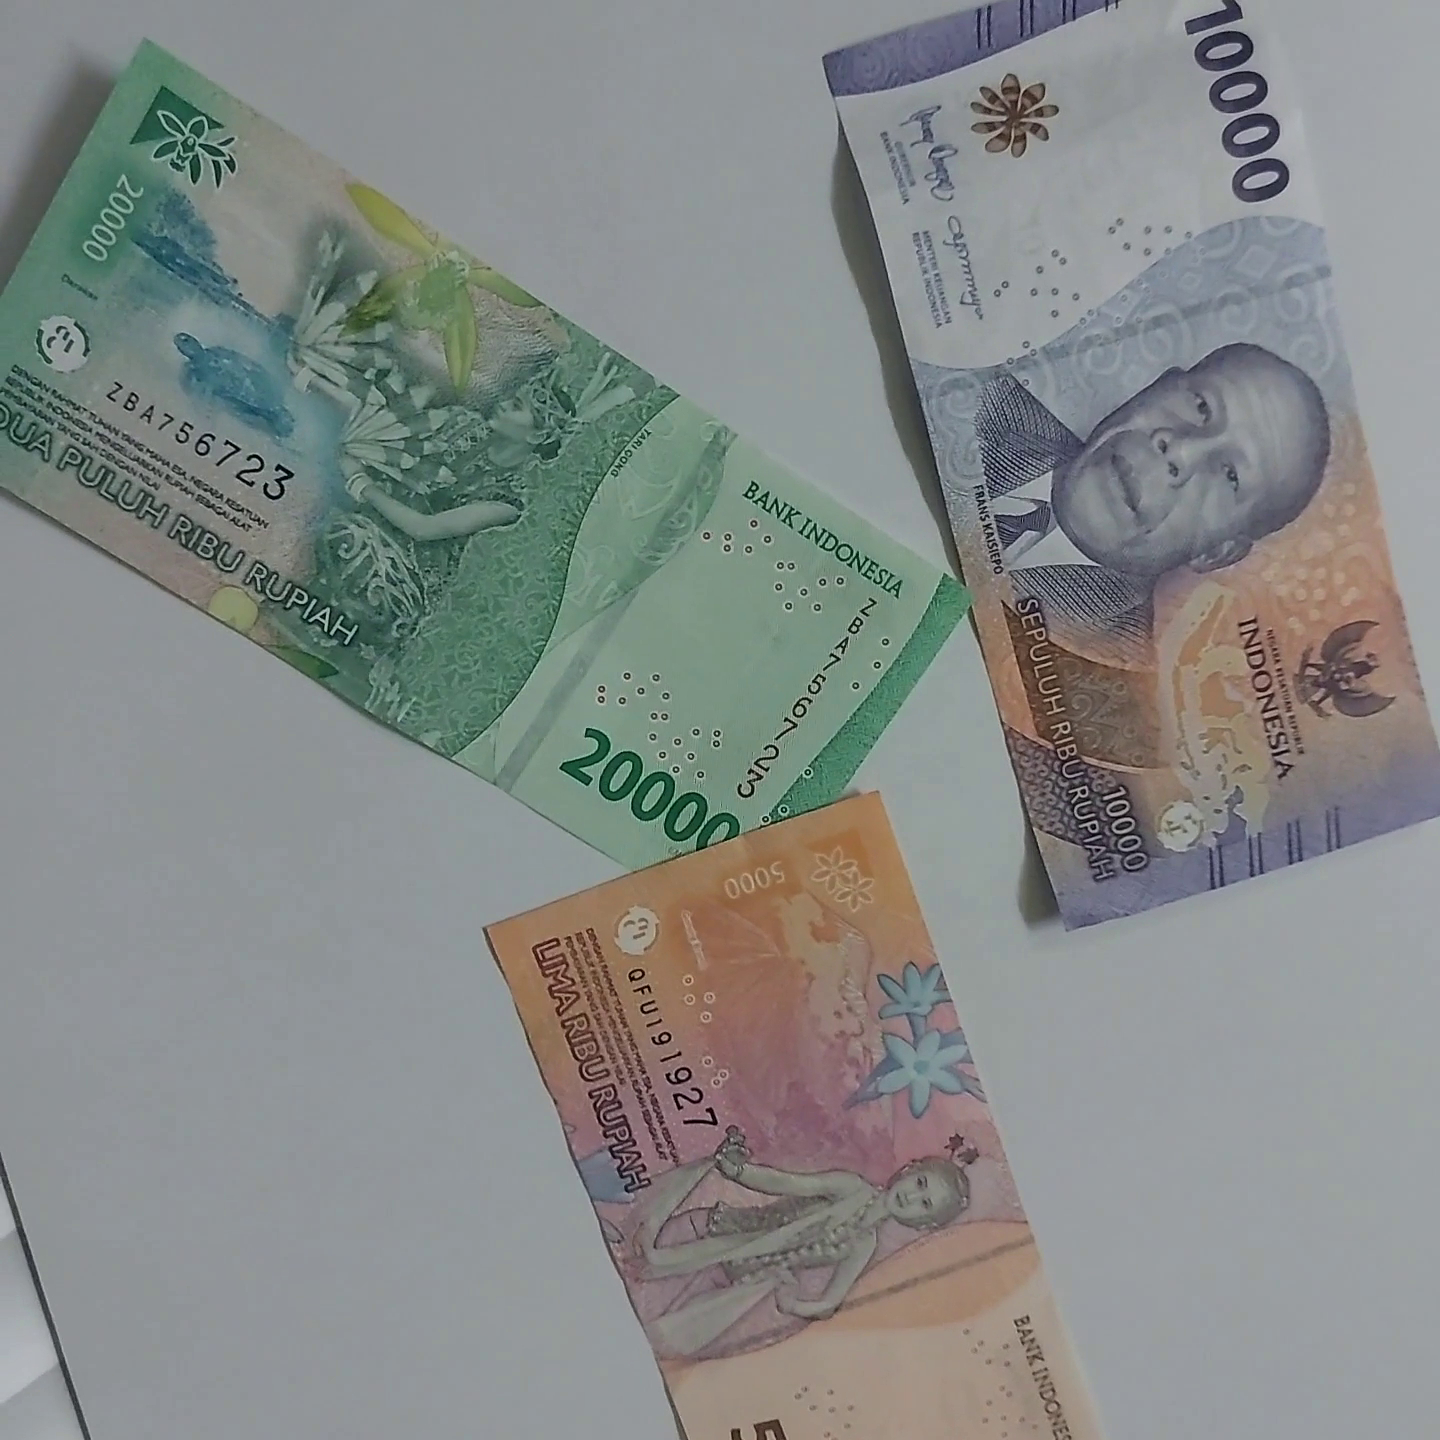10k: (837, 0, 1440, 990)
20k: (0, 24, 975, 878)
5k: (450, 798, 1283, 1435)
